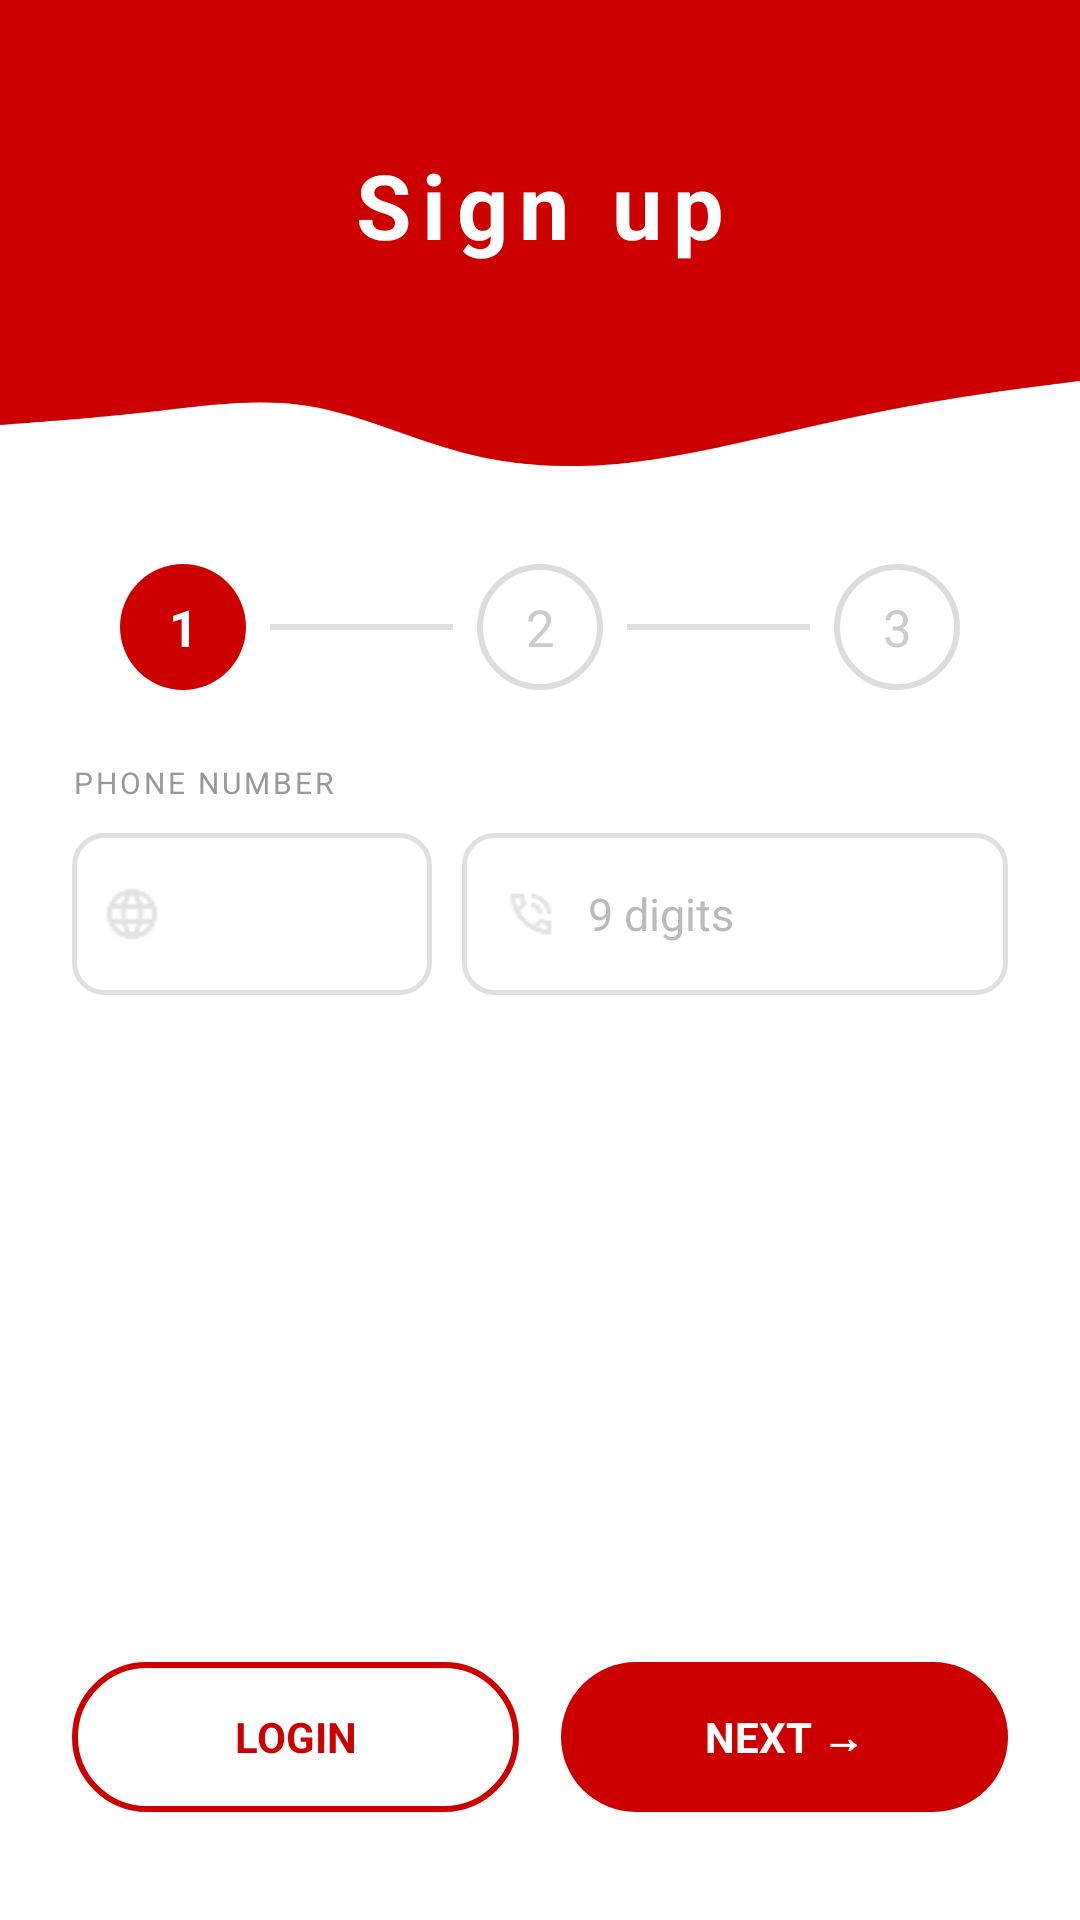

Where icons sit on this 1080 x 1920 app screen, as {"left": x1, "top": y1, "right": x2, "bottom": y2}:
flag globe: {"left": 108, "top": 890, "right": 156, "bottom": 938}
phone: {"left": 512, "top": 895, "right": 550, "bottom": 933}
